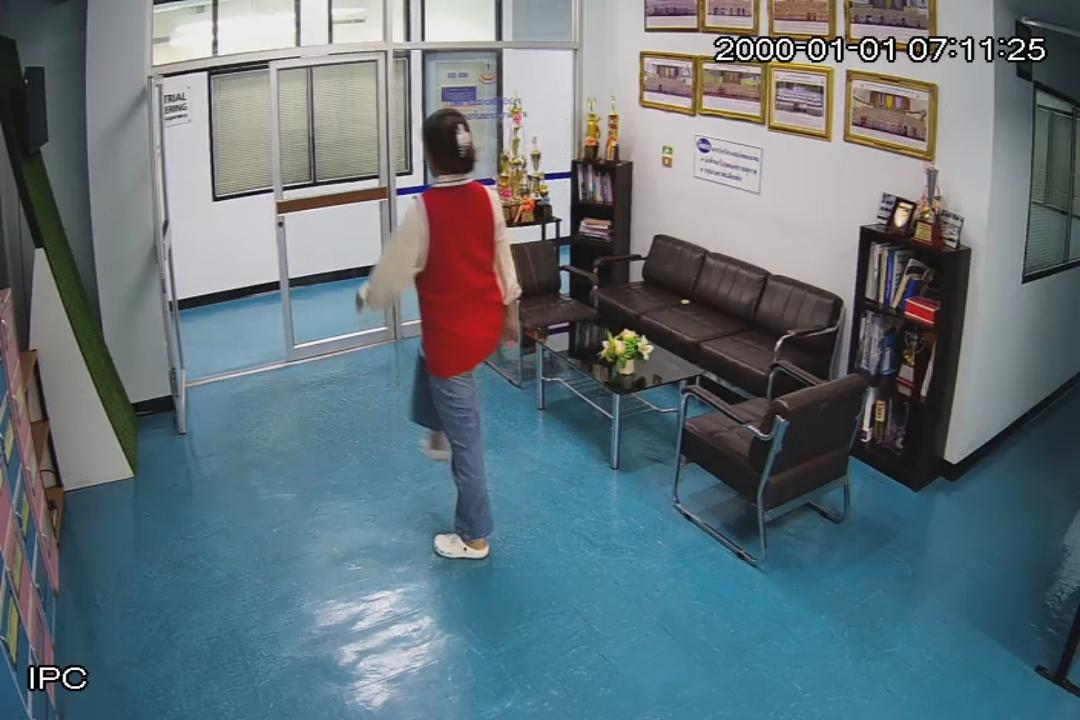normal: (351, 106, 528, 565)
